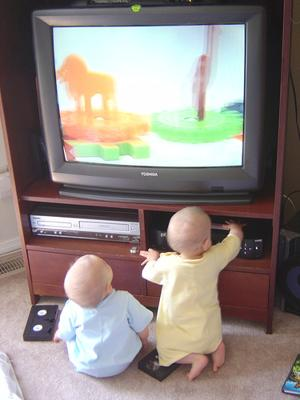person: (52, 254, 151, 380)
